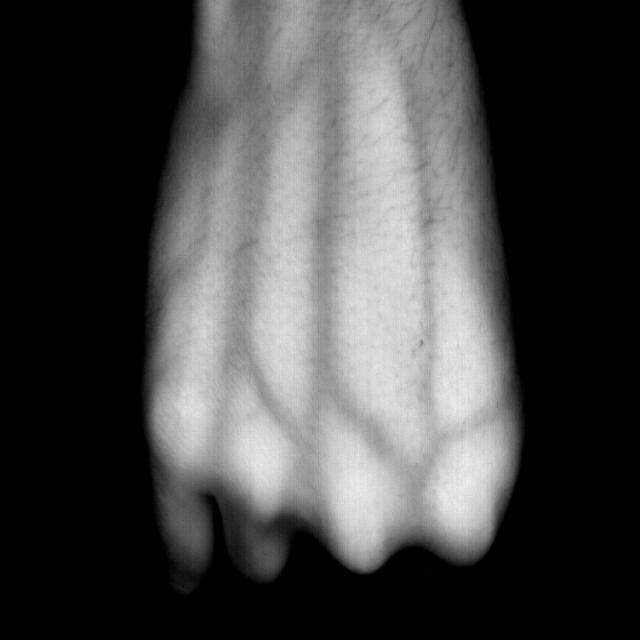Vein: (215, 69, 445, 487)
